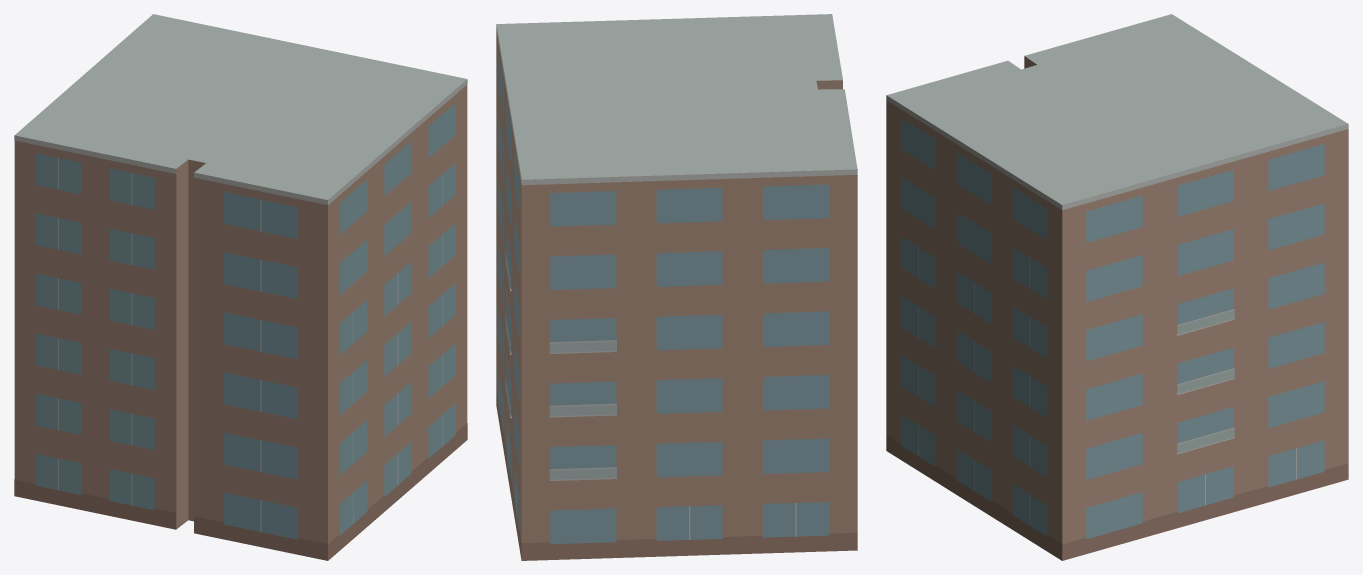
Rendered from survey-upis-32965621.glb.
3 views of the same model, side by side, from view 1: azimuth 30°, elevation 25°; view 2: azimuth 150°, elevation 25°; view 3: azimuth 270°, elevation 25° (orthographic). The views are drawn at different scales.
Parts seen in each view (by area): view 1: survey-upis-32965621.tmp; view 2: survey-upis-32965621.tmp; view 3: survey-upis-32965621.tmp.
Boxes of the visible parts, left/top/right/bottom form: survey-upis-32965621.tmp: left=14, top=14, right=467, bottom=560; survey-upis-32965621.tmp: left=496, top=14, right=857, bottom=560; survey-upis-32965621.tmp: left=886, top=14, right=1348, bottom=560.
Bounding box in the file's own units: 19.84 × 17.2 × 20.26.
